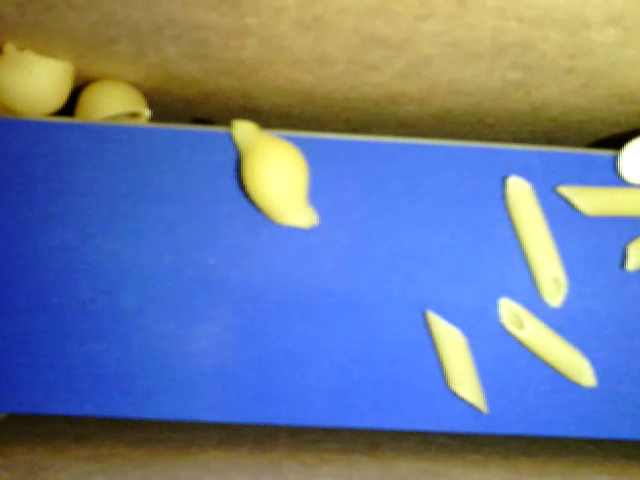penne: (497, 297, 597, 387), (504, 175, 569, 308), (426, 310, 487, 413), (556, 185, 639, 217)
shell: (230, 117, 319, 229), (1, 43, 75, 115), (73, 79, 152, 122)
